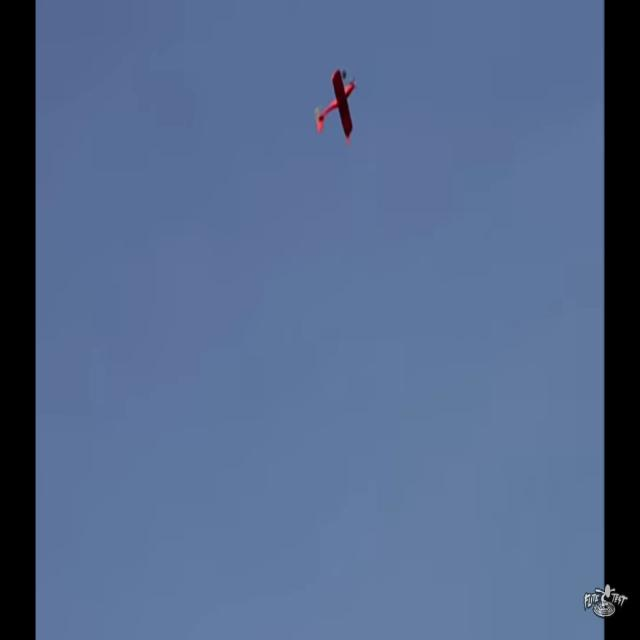iha: (314, 34, 357, 52)
